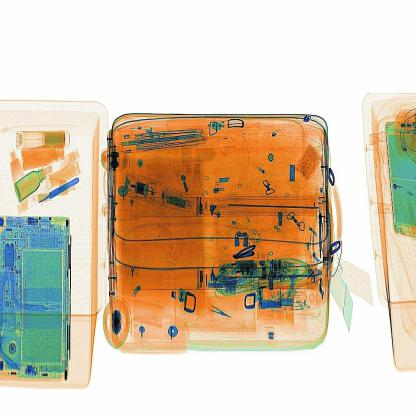knife: (312, 199, 331, 262)
